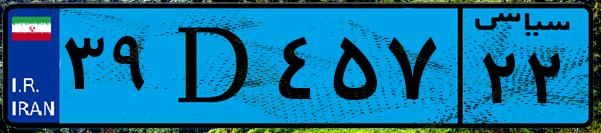2: (475, 38, 525, 113), (525, 38, 570, 115)
3: (57, 26, 110, 100)
4: (270, 28, 330, 110)
5: (330, 28, 385, 110)
7: (385, 28, 445, 110)
9: (110, 28, 158, 98)
D: (158, 12, 270, 120)
